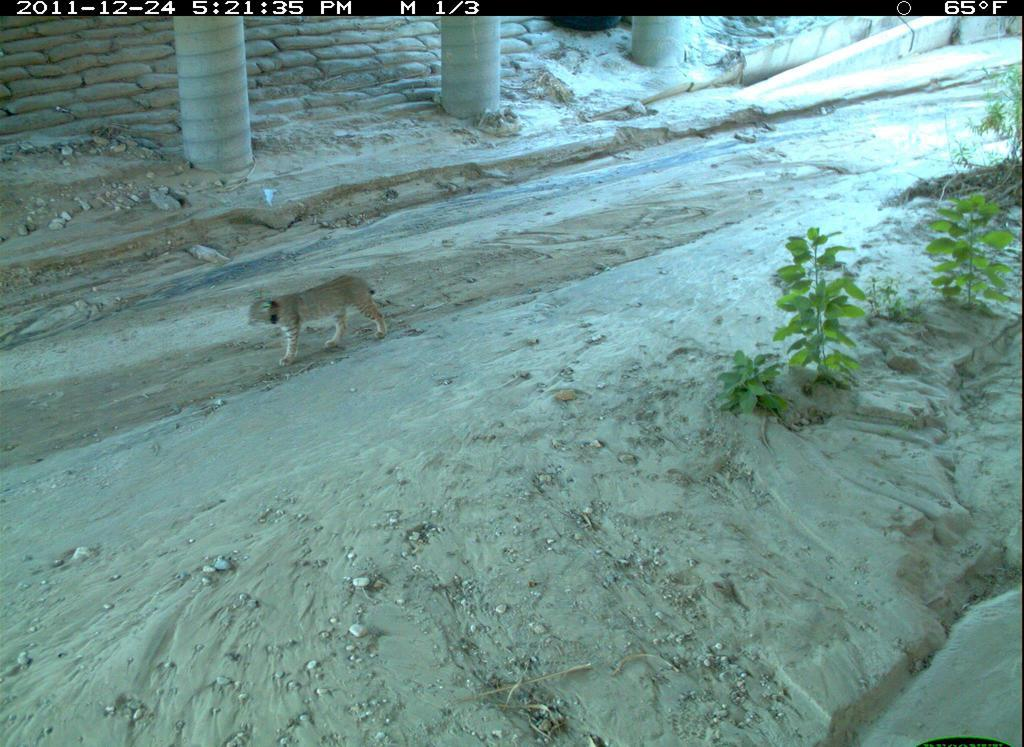bobcat: (241, 278, 397, 368)
